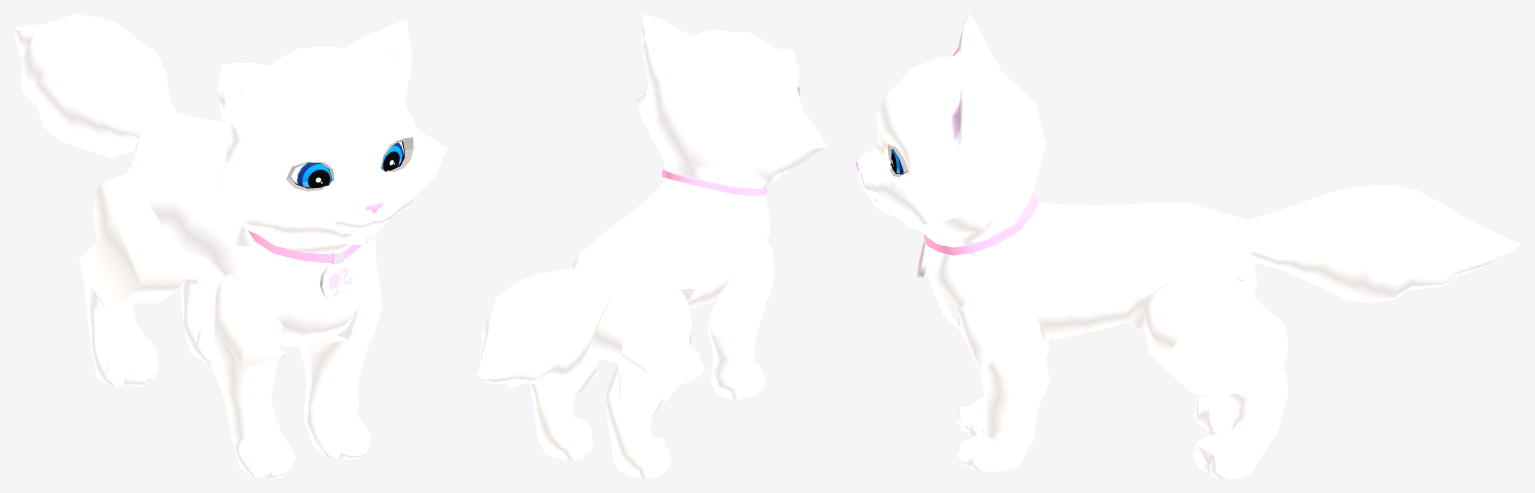
Rendered from blissa_cat.glb.
3 views of the same model, side by side, from view 1: azimuth 30°, elevation 25°; view 2: azimuth 150°, elevation 25°; view 3: azimuth 270°, elevation 25° (orthographic). The views are drawn at different scales.
Parts seen in each view (by area): view 1: Mesh_0019.rip, Mesh_0927.rip; view 2: Mesh_0019.rip; view 3: Mesh_0019.rip.
Part boxes in pixels (left/top/right/bottom): Mesh_0019.rip: left=14, top=14, right=447, bottom=478; Mesh_0927.rip: left=286, top=137, right=413, bottom=191; Mesh_0019.rip: left=476, top=14, right=827, bottom=478; Mesh_0019.rip: left=856, top=14, right=1520, bottom=478.
Size of the model in its own units: 0.0025 by 0.00428 by 0.0066.
Materials: 2 (2 with a texture image).
